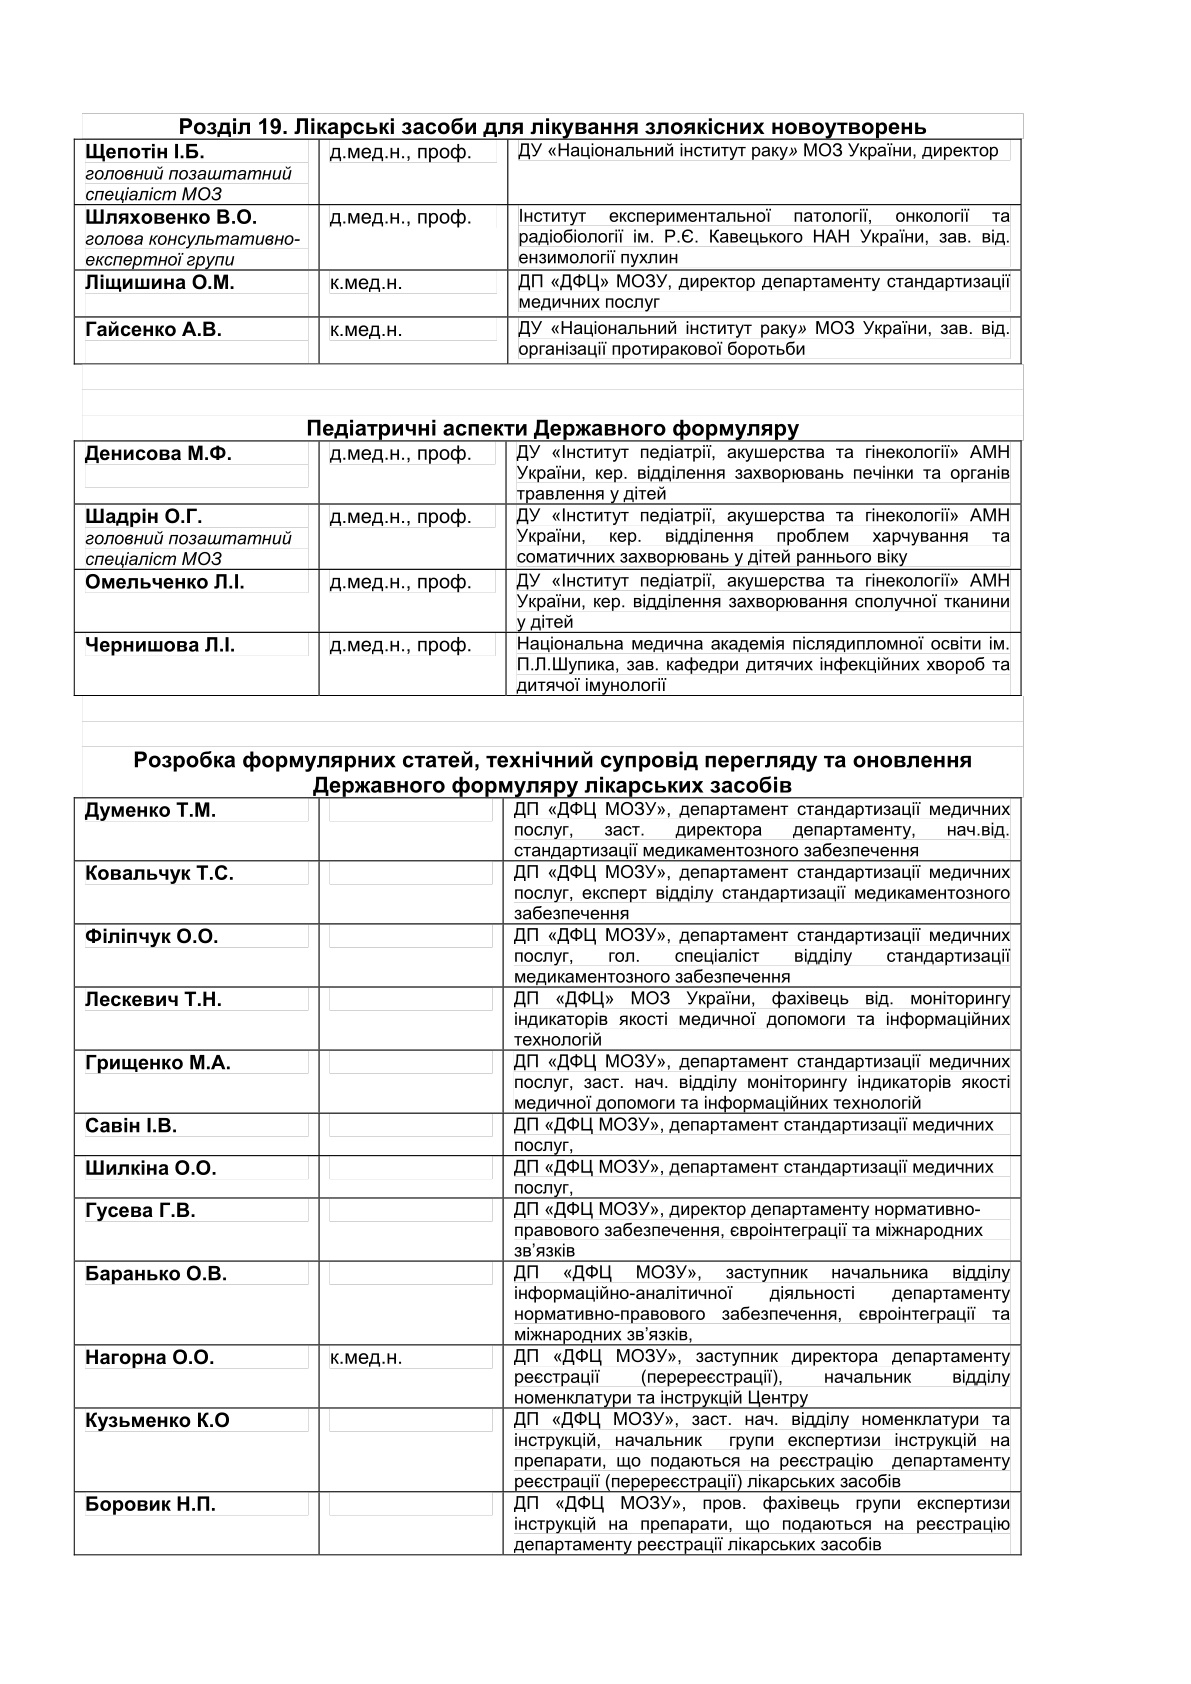full_lined: (73, 796, 1022, 1556), (73, 439, 1022, 696), (73, 137, 1022, 365)
